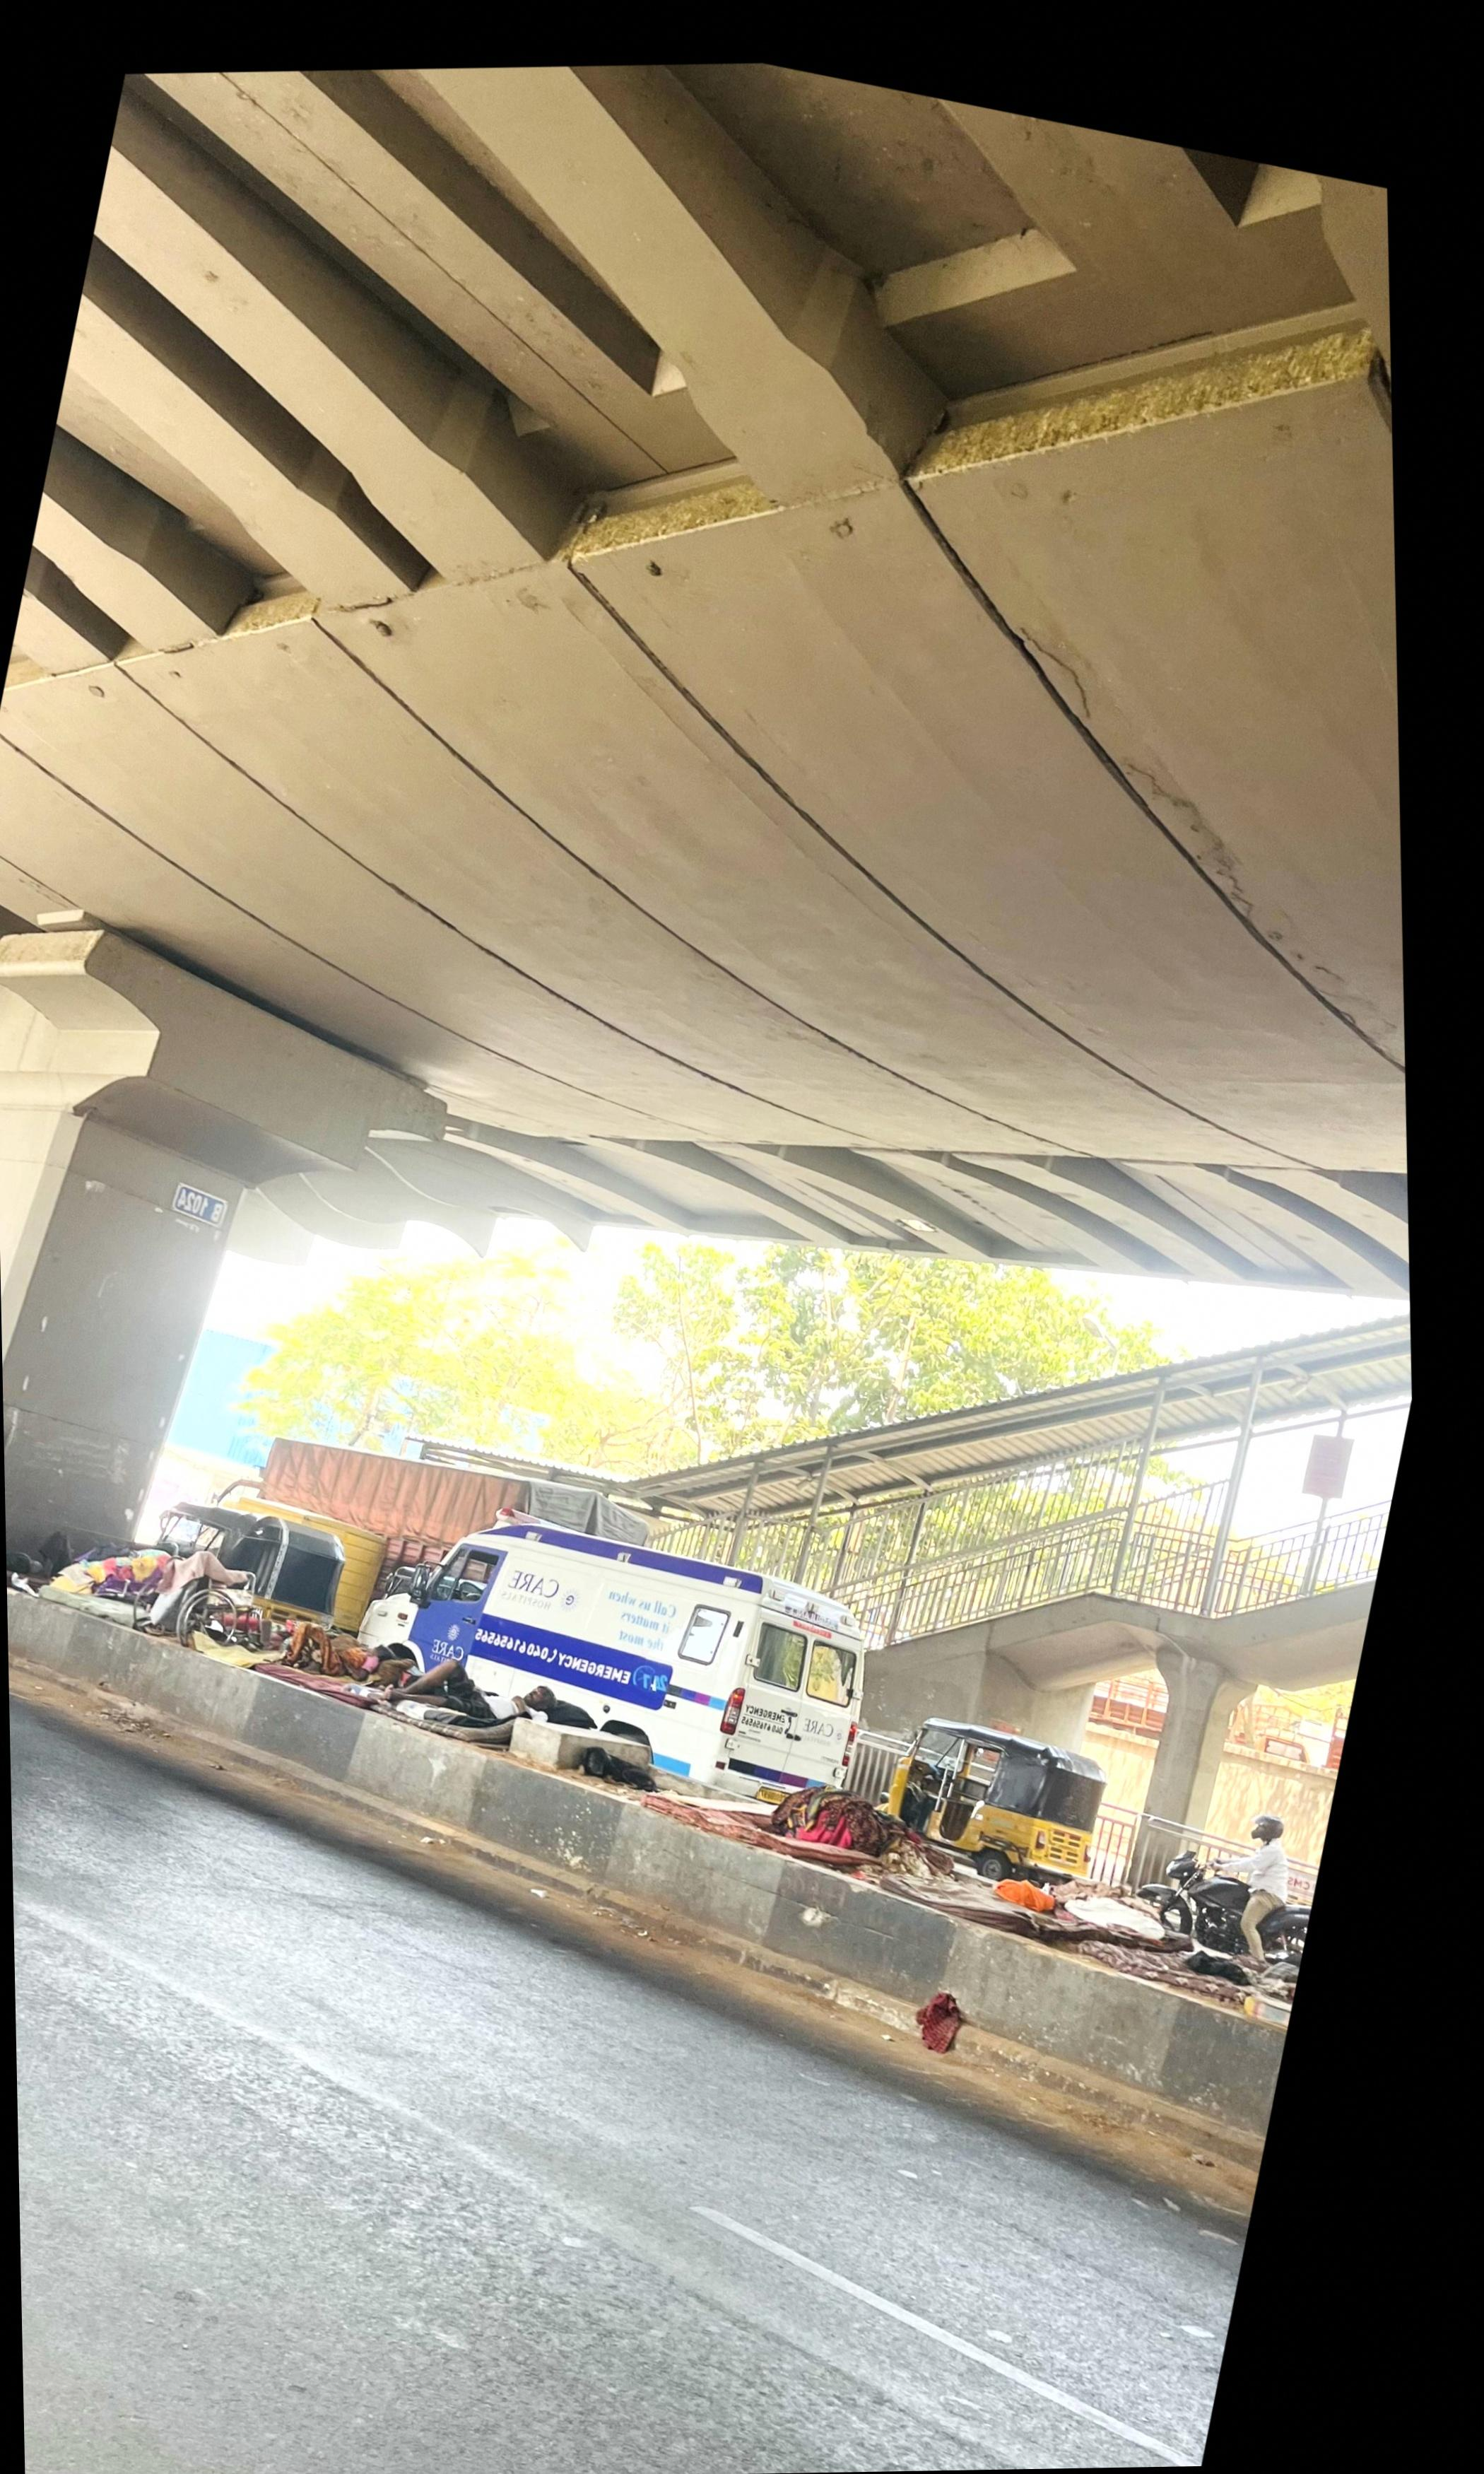ambulance: (346, 1536, 857, 1802)
